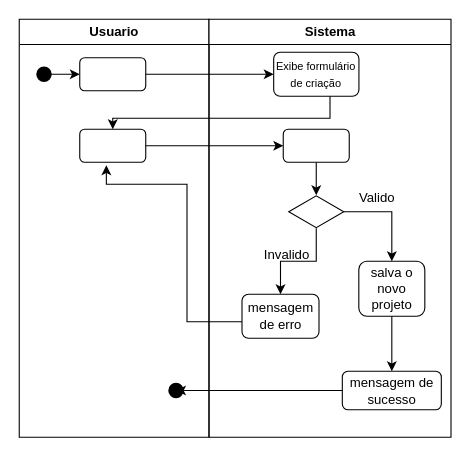
Some shapes in this 471 by 457 pixel diagram are drawn without their labels. Here are the shapes that lost their labels. From the top down, the centre of each, then its label:
[112,74]: Novo Projeto
[112,145]: Preenche informações
[315,145]: Salvar
